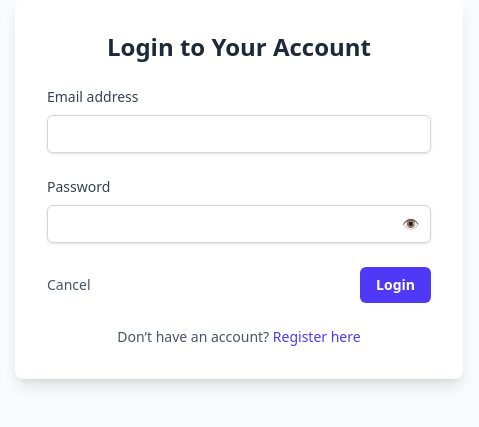
Scenario: LoginPage › shows loading state during form submission
The image size is (479, 427).
In the field labelled "Email address": (239, 134) top-left (47, 115), bottom-right (431, 153), type "test@example.com"
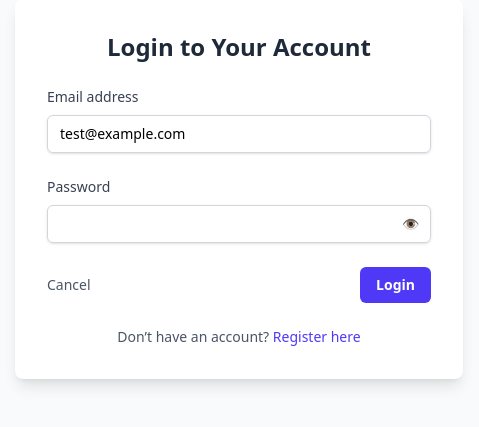
In the password field labelled "Password": (239, 224) top-left (47, 205), bottom-right (431, 243), type "password123"
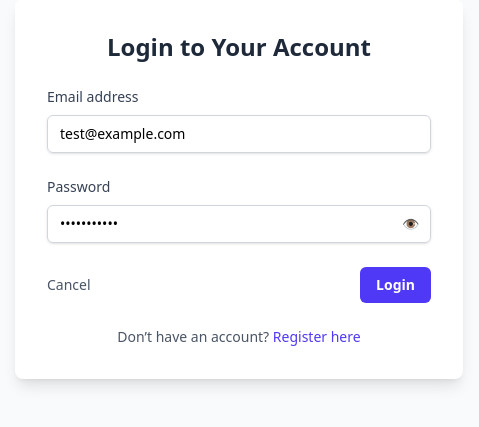
Click the button "Login": (396, 285) top-left (360, 267), bottom-right (431, 303)
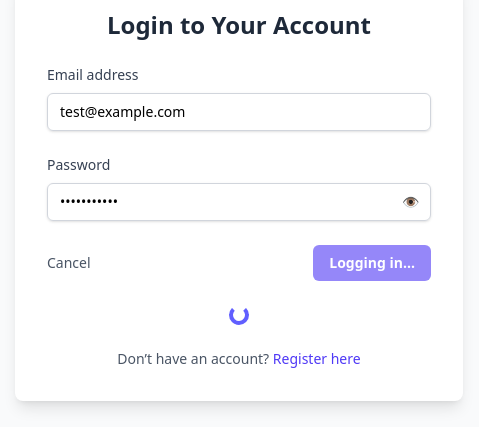
Expected: the button "Logging in..." is disabled, top-left (313, 245), bottom-right (431, 281)
